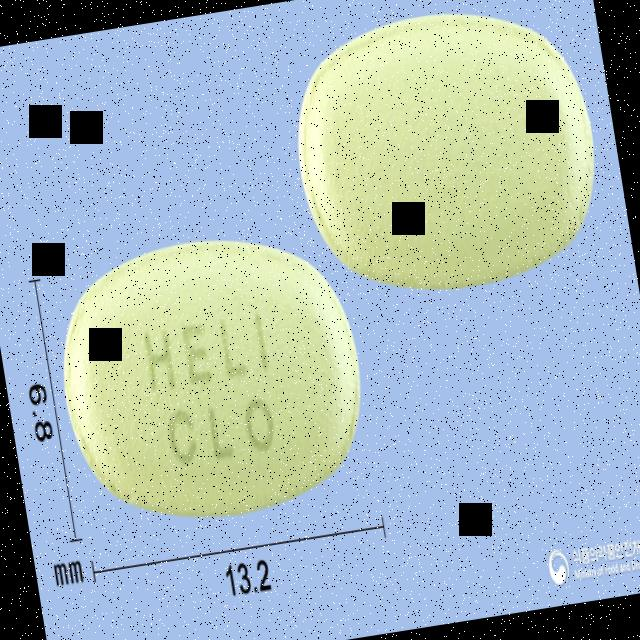Heliclo Tab: (45, 214, 382, 540)
